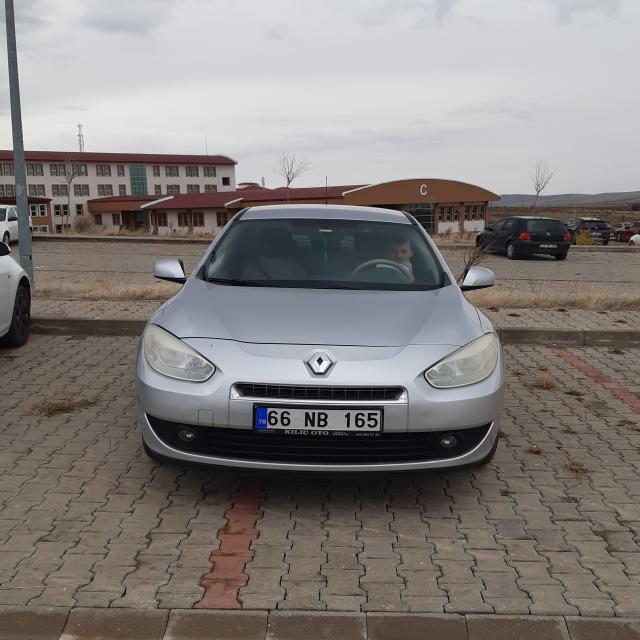plate: (256, 408, 381, 429)
